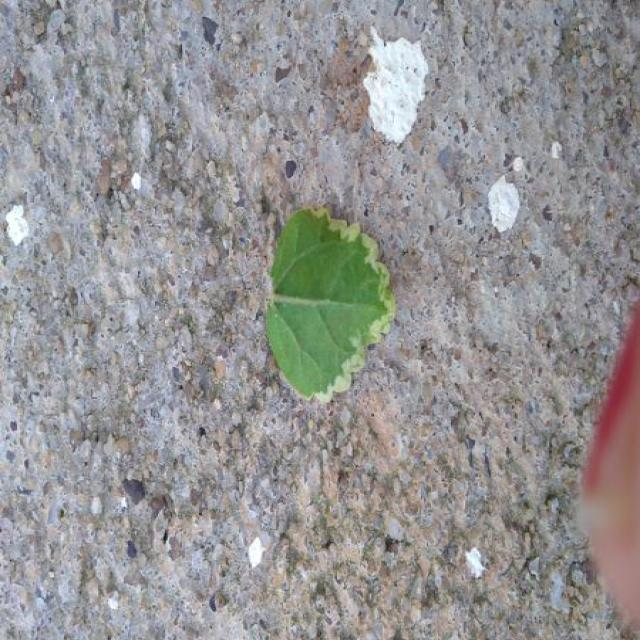Hibiscus: (267, 208, 395, 401)
dieback: (267, 208, 395, 401)
